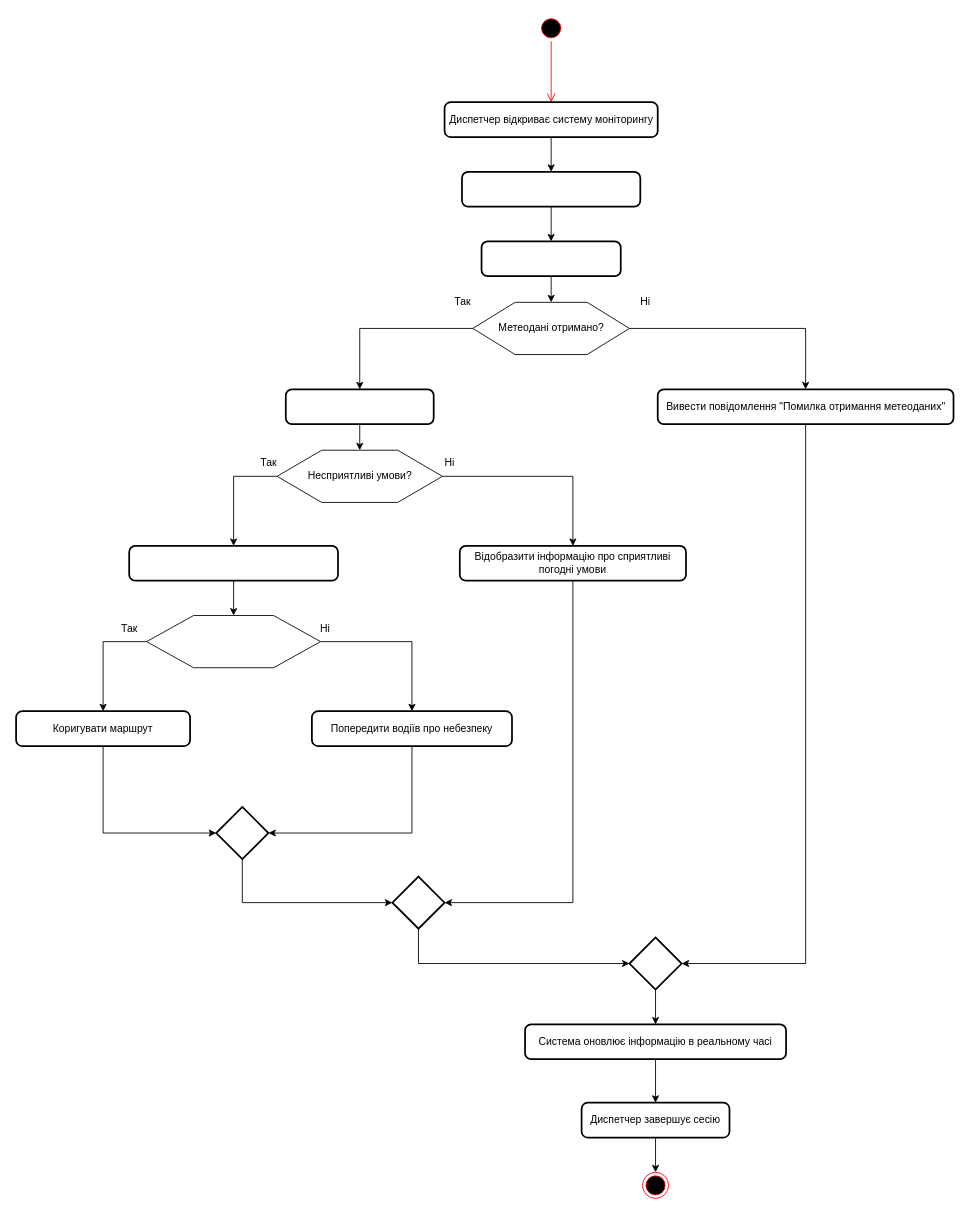
Image size: 969x1214. Some labels were removed from this diagram. The shapes that lost their labels are listed below. From the top down, each one's centre as x and y in pixels, then its label:
point 551,189: Активує модуль прогнозу погоди
point 550,258: Система отримує метеодані
point 359,406: Аналіз погодних умов
point 233,563: Диспетчер переглядає рекомендації
point 233,641: Коригувати маршрути?
